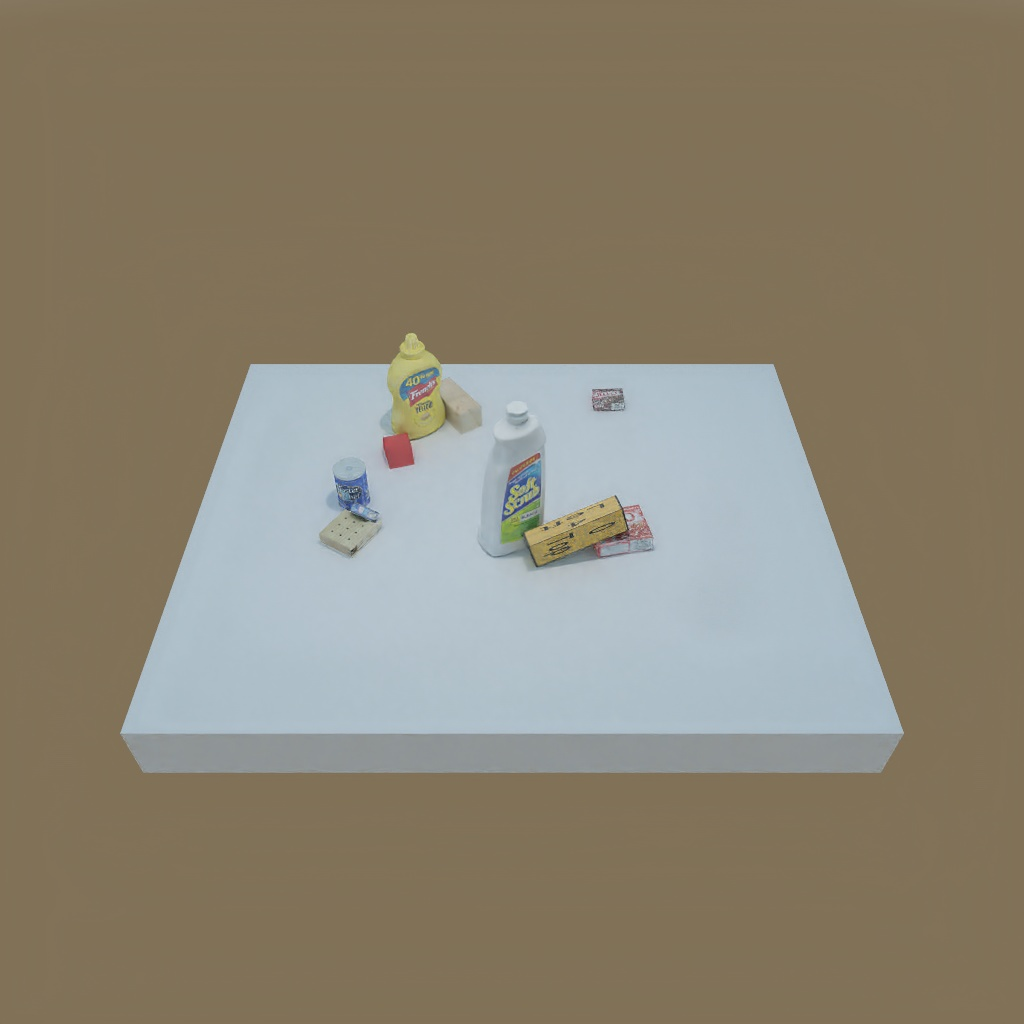gelatin_box: (592, 503, 661, 560)
jenga: (523, 492, 621, 559)
master_chef_can: (331, 457, 381, 505)
mustard_bottle: (389, 335, 449, 436)
nine_hole_peg_test: (319, 516, 380, 556)
pudding_box: (589, 383, 628, 415)
wood_block: (434, 378, 487, 429)
